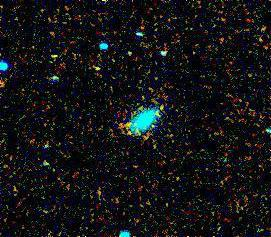star: (148, 94, 178, 124)
